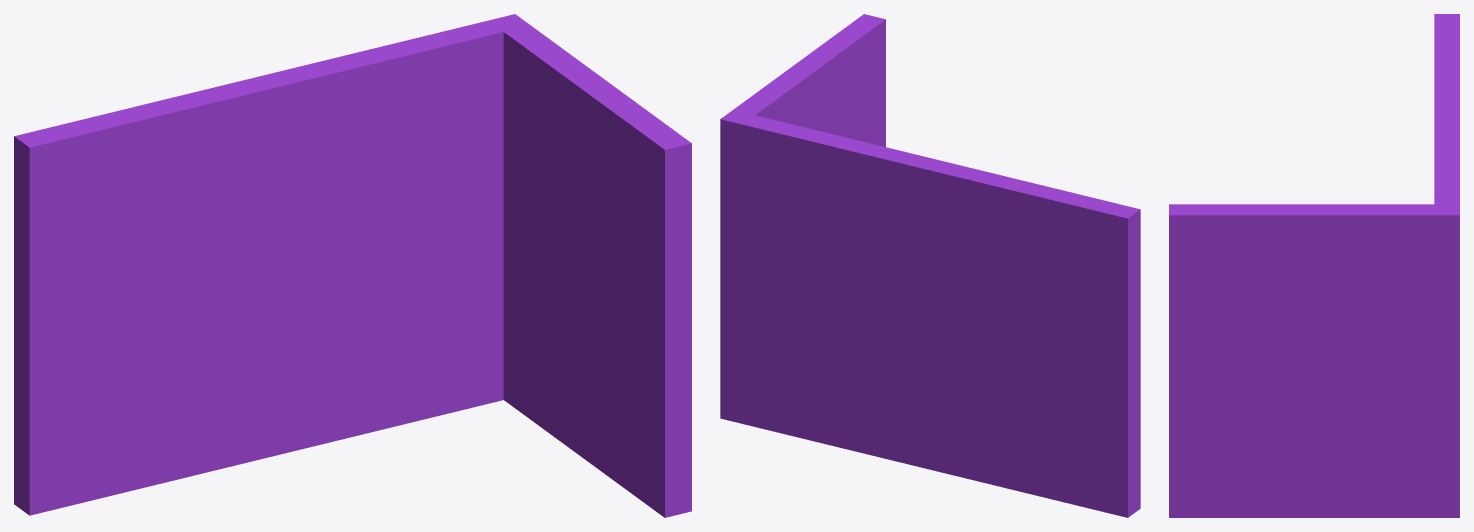
File: Barrier_140_chunks.fbx
The picture shows the model from 3 angles, left to right: view 1: azimuth 30°, elevation 25°; view 2: azimuth 150°, elevation 25°; view 3: azimuth 270°, elevation 25°; orthographic projection. The views are drawn at different scales.
Visible parts, largest first — view 1: Barrier_140_1, Barrier_140_0, Barrier_140_6, Barrier_140_7, Barrier_140_2, Barrier_140_11, Barrier_140_12, Barrier_140_10, Barrier_140_9, Barrier_140_8, Barrier_140_5, Barrier_140_4 (+1 smaller); view 2: Barrier_140_1, Barrier_140_6, Barrier_140_7, Barrier_140_8, Barrier_140_10, Barrier_140_9, Barrier_140_0, Barrier_140_11, Barrier_140_2, Barrier_140_12, Barrier_140_5, Barrier_140_3; view 3: Barrier_140_0, Barrier_140_1, Barrier_140_2, Barrier_140_5.
Part boxes in pixels (left/top/right/bottom): Barrier_140_1: left=230, top=14, right=691, bottom=254; Barrier_140_0: left=399, top=231, right=691, bottom=517; Barrier_140_6: left=14, top=172, right=240, bottom=515; Barrier_140_7: left=238, top=150, right=446, bottom=398; Barrier_140_2: left=14, top=84, right=290, bottom=220; Barrier_140_11: left=14, top=393, right=271, bottom=514; Barrier_140_12: left=217, top=288, right=386, bottom=418; Barrier_140_10: left=256, top=386, right=406, bottom=456; Barrier_140_9: left=106, top=296, right=231, bottom=434; Barrier_140_8: left=195, top=83, right=303, bottom=237; Barrier_140_5: left=637, top=146, right=691, bottom=252; Barrier_140_4: left=19, top=156, right=96, bottom=248; Barrier_140_1: left=720, top=14, right=952, bottom=309; Barrier_140_6: left=969, top=215, right=1140, bottom=509; Barrier_140_7: left=769, top=230, right=942, bottom=411; Barrier_140_8: left=879, top=175, right=1051, bottom=322; Barrier_140_10: left=798, top=375, right=973, bottom=475; Barrier_140_9: left=942, top=317, right=1114, bottom=482; Barrier_140_0: left=720, top=125, right=885, bottom=438; Barrier_140_11: left=955, top=431, right=1139, bottom=517; Barrier_140_2: left=947, top=162, right=1140, bottom=260; Barrier_140_12: left=854, top=318, right=954, bottom=400; Barrier_140_5: left=863, top=18, right=885, bottom=103; Barrier_140_3: left=858, top=103, right=885, bottom=126; Barrier_140_0: left=1169, top=287, right=1459, bottom=517; Barrier_140_1: left=1169, top=100, right=1459, bottom=393; Barrier_140_2: left=1434, top=14, right=1459, bottom=109; Barrier_140_5: left=1169, top=204, right=1187, bottom=292.
Bounding box in the file's own units: 410 × 288 × 250.
